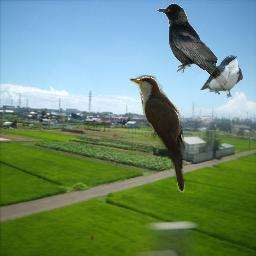Crow: (156, 3, 228, 92)
Cuckoo: (129, 75, 188, 194)
Swallow: (200, 55, 243, 98)
